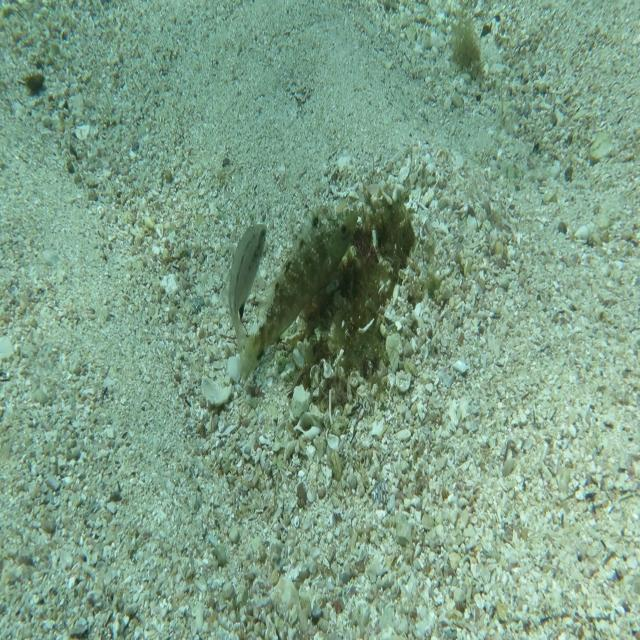FAN: (239, 201, 358, 383)
core_nest: (338, 206, 397, 264)
female: (220, 222, 270, 370)
nest: (285, 175, 430, 416)
